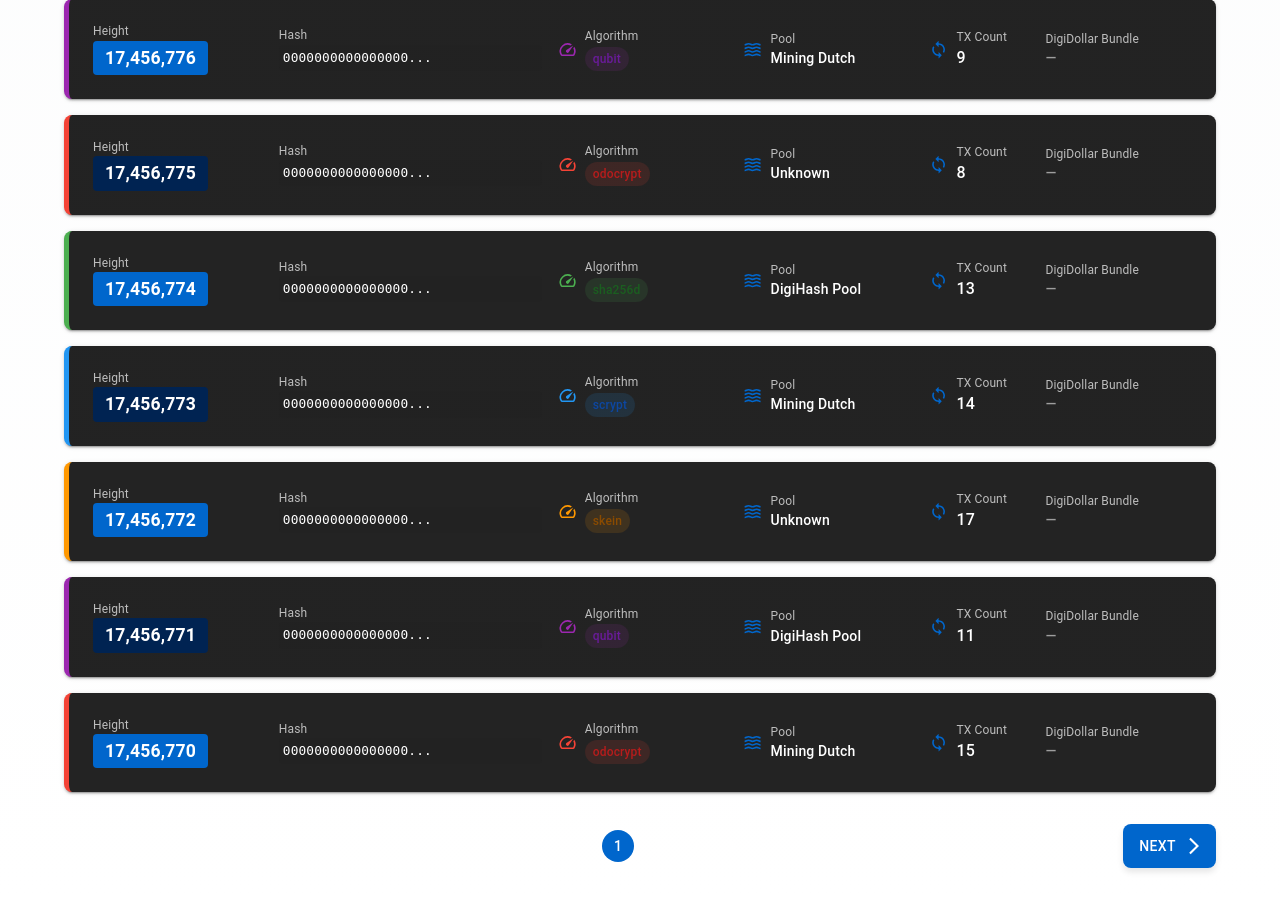
Test: BlocksPage › Pagination › should handle page navigation
The width and height of the screenshot is (1280, 900).
(page scrolled)
Click next page
Click the button "Next". click: (1170, 846)
box: [1123,824,1216,868]
(page scrolled)
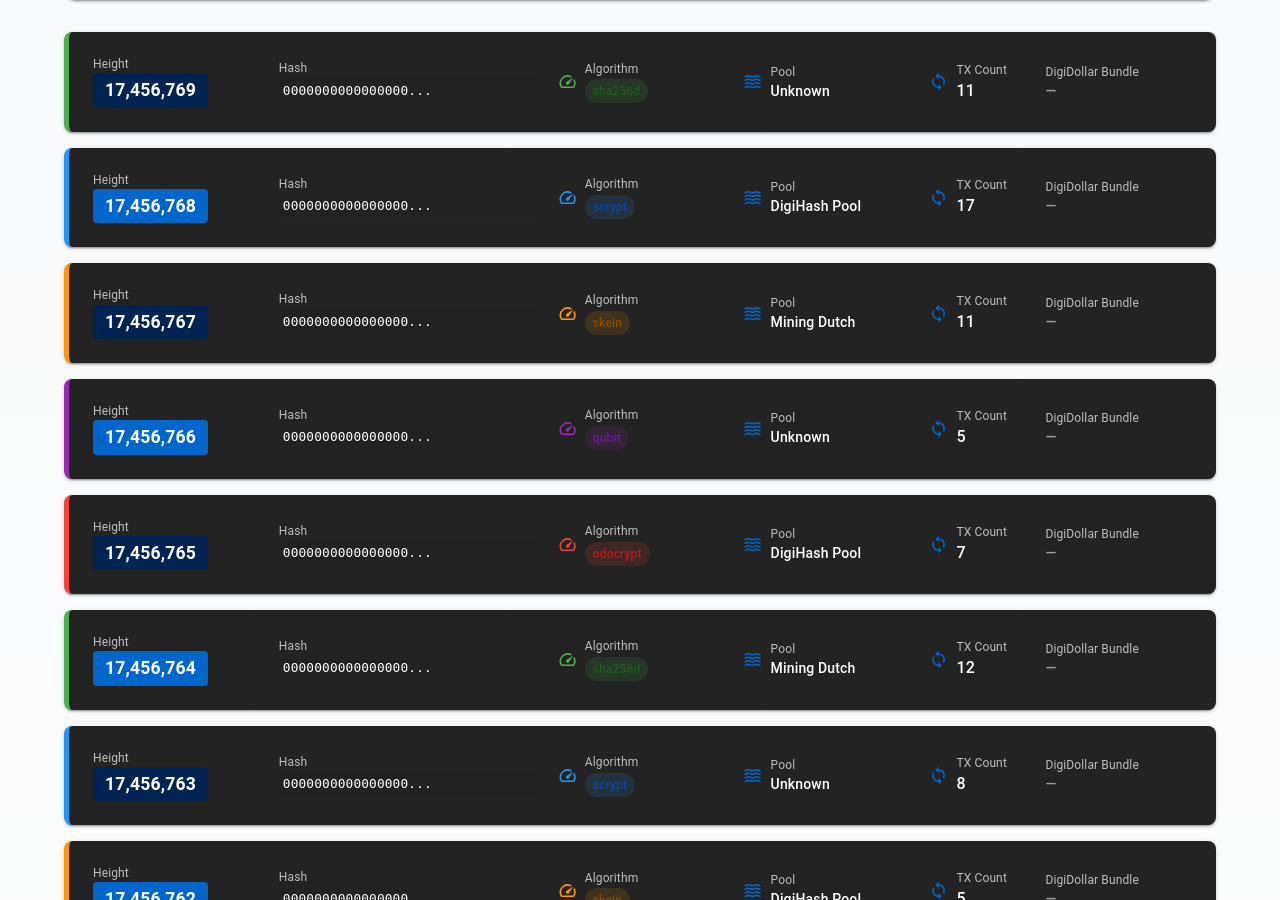
Now the text "17,456,769" is shown, box [93,74,208,108]
